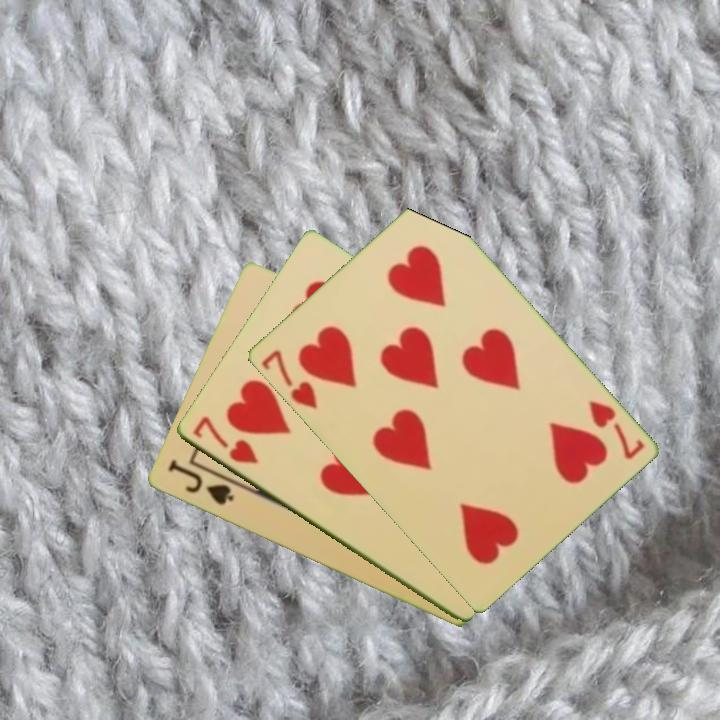7h: (584, 396, 647, 463), (257, 346, 320, 412), (188, 412, 261, 467)
Js: (163, 456, 237, 509)
